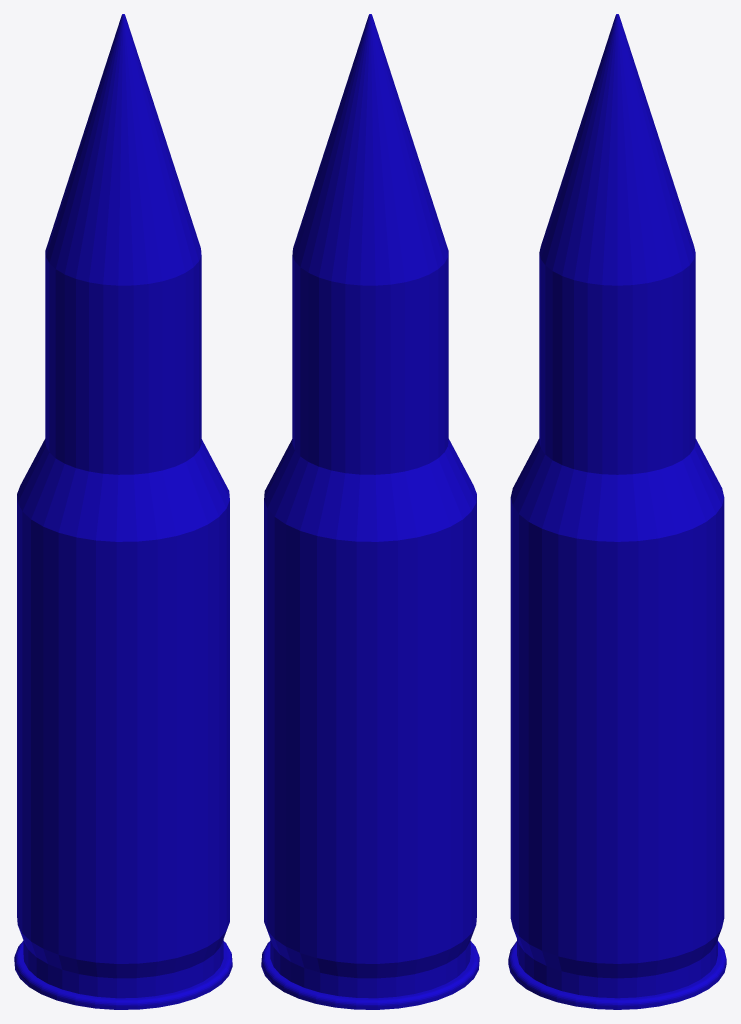
Rendered from Bullet (plastic).fbx.
3 renders of one model, left to right at view 1: azimuth 30°, elevation 25°; view 2: azimuth 150°, elevation 25°; view 3: azimuth 270°, elevation 25°, orthographic.
Visible parts, largest first — view 1: Cylinder; view 2: Cylinder; view 3: Cylinder.
Boxes of the visible parts, x1,y1,x2,y2 form: Cylinder: (14,14,232,1009); Cylinder: (261,14,479,1009); Cylinder: (508,14,726,1009).
Size of the model in its own units: 57.97 by 278 by 57.97.
